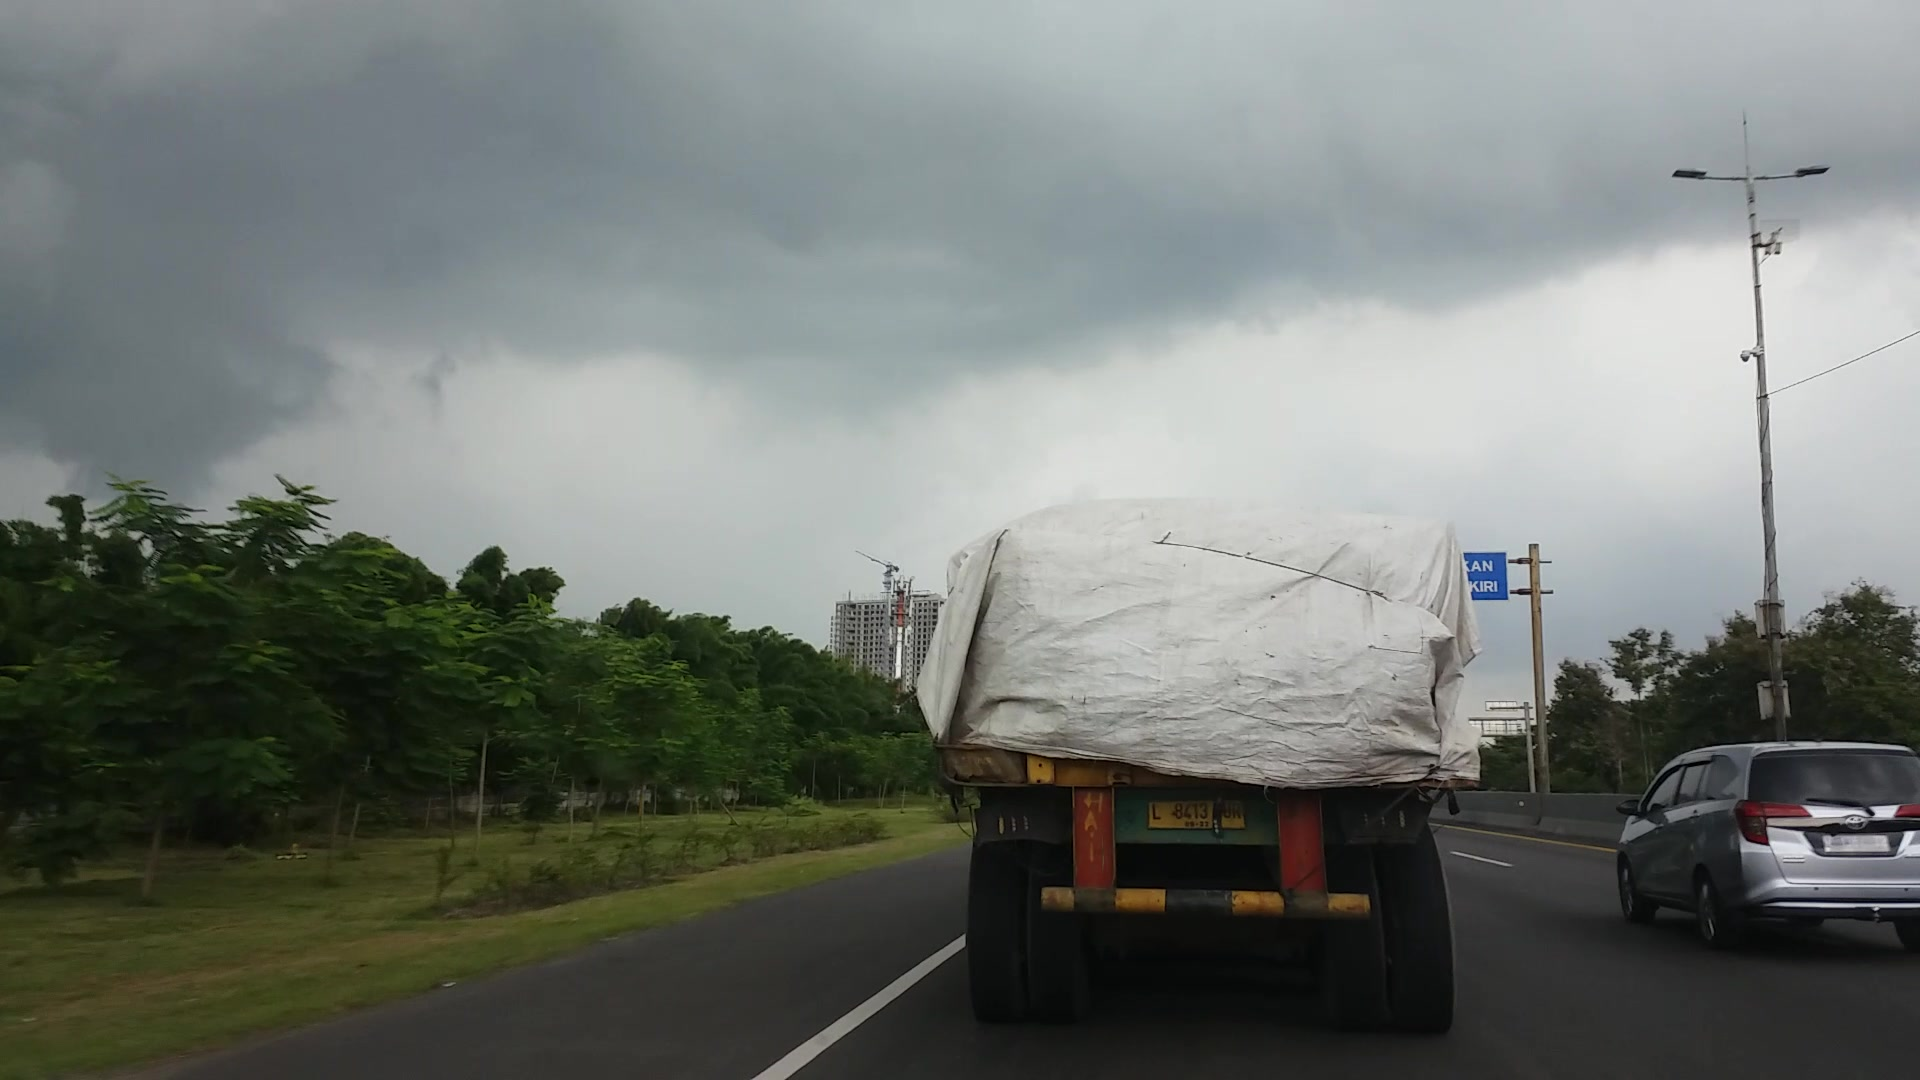plate_positive: (1149, 799, 1246, 829)
